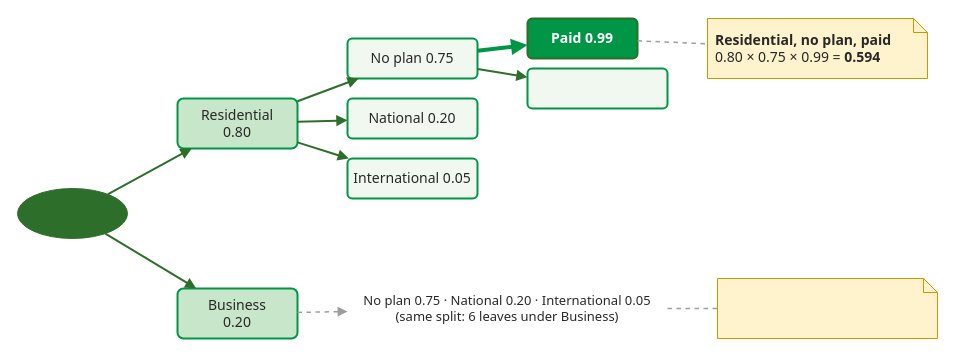
Image size: 955x356. Some labels were removed from this diagram. The centre of each missing label's shape, as x and y in pixels:
Account: point (72, 213)
Business, international, delinquent 0.20 × 0.05 × 0.01 = 0.0001: point (827, 308)
Delinquent 0.01: point (597, 88)
